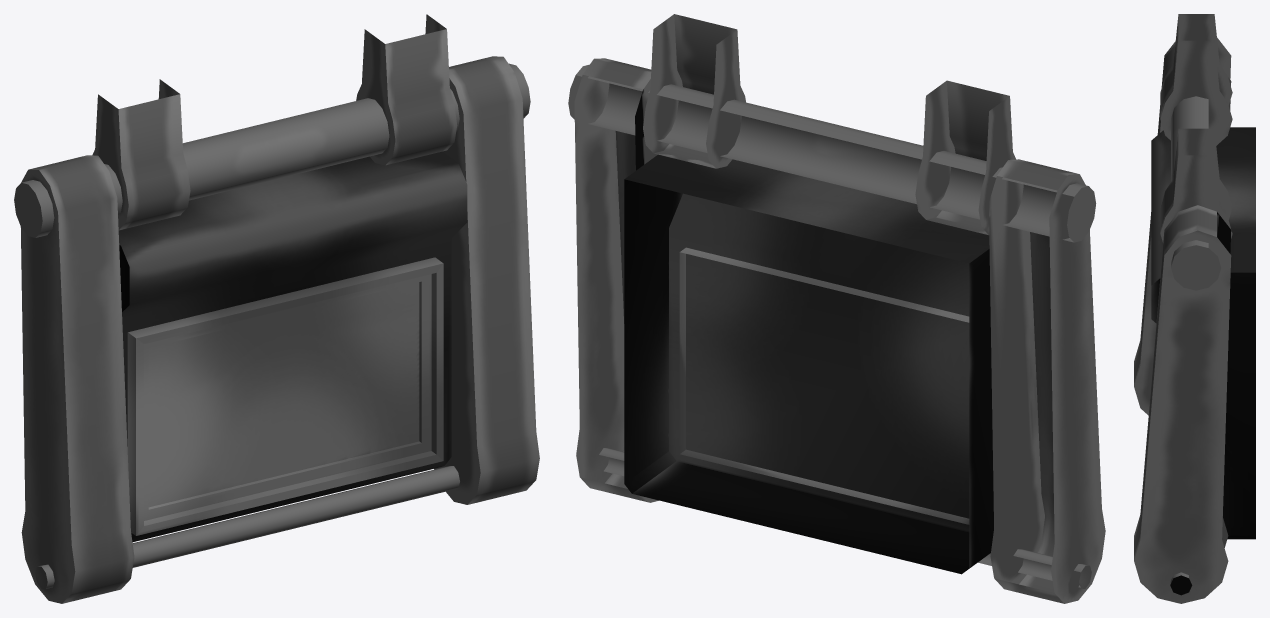
The model's file is Screen.fbx.
3 renders of one model, left to right at view 1: azimuth 30°, elevation 25°; view 2: azimuth 150°, elevation 25°; view 3: azimuth 270°, elevation 25°, orthographic. The views are drawn at different scales.
Parts seen in each view (by area): view 1: Cylinder.001; view 2: Cylinder.001; view 3: Cylinder.001.
Part boxes in pixels (x1,y1,x2,y2): Cylinder.001: [14, 14, 539, 603]; Cylinder.001: [568, 14, 1105, 603]; Cylinder.001: [1134, 14, 1255, 603].
Size of the model in its own units: 57.29 by 53.4 by 14.06.
